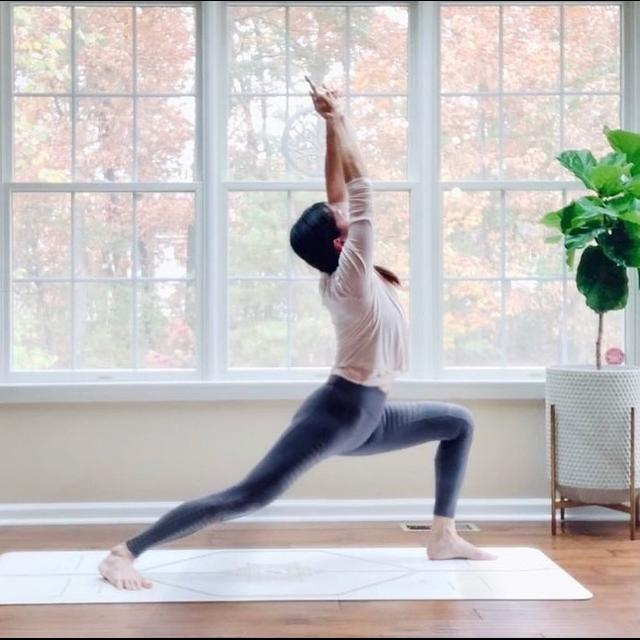Warrior_I: (95, 67, 498, 601)
